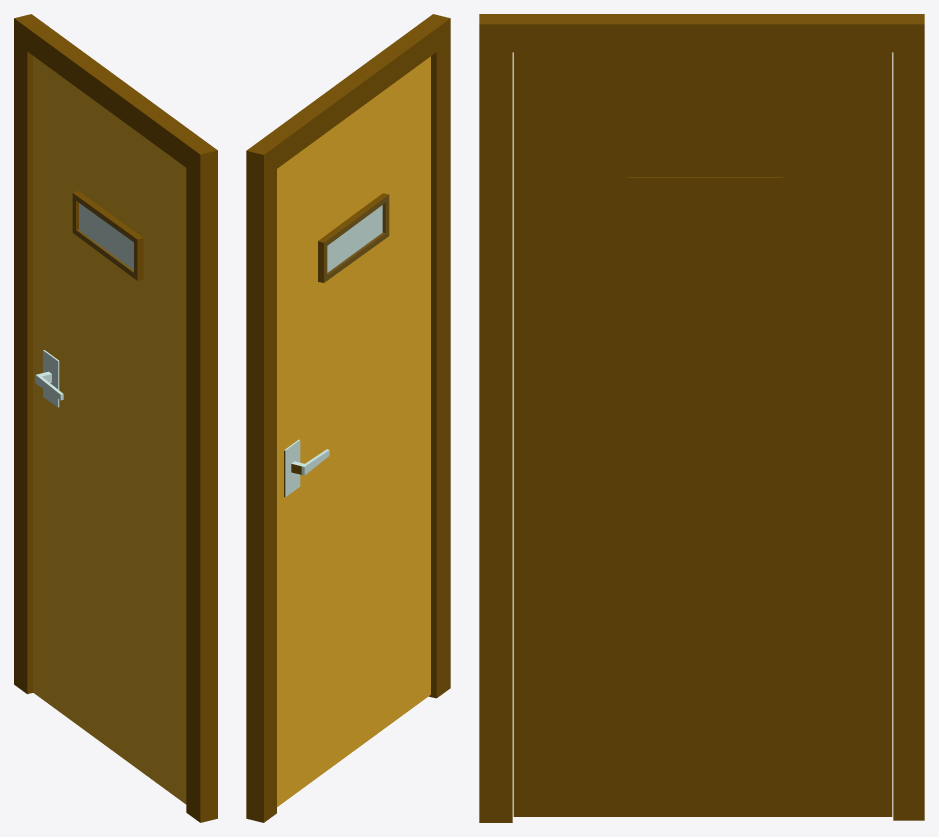
The model's file is Door.fbx.
The picture shows the model from 3 angles, left to right: view 1: azimuth 30°, elevation 25°; view 2: azimuth 150°, elevation 25°; view 3: azimuth 270°, elevation 25°; orthographic projection. The views are drawn at different scales.
Visible parts, largest first — view 1: Door; view 2: Door; view 3: Door.
Boxes of the visible parts, x1=… form: Door: x1=14, y1=14, x2=217, y2=822; Door: x1=246, y1=14, x2=450, y2=822; Door: x1=479, y1=14, x2=924, y2=822.
Size of the model in its own units: 33.6 by 793 by 401.
Materials: 1 (1 with a texture image).
